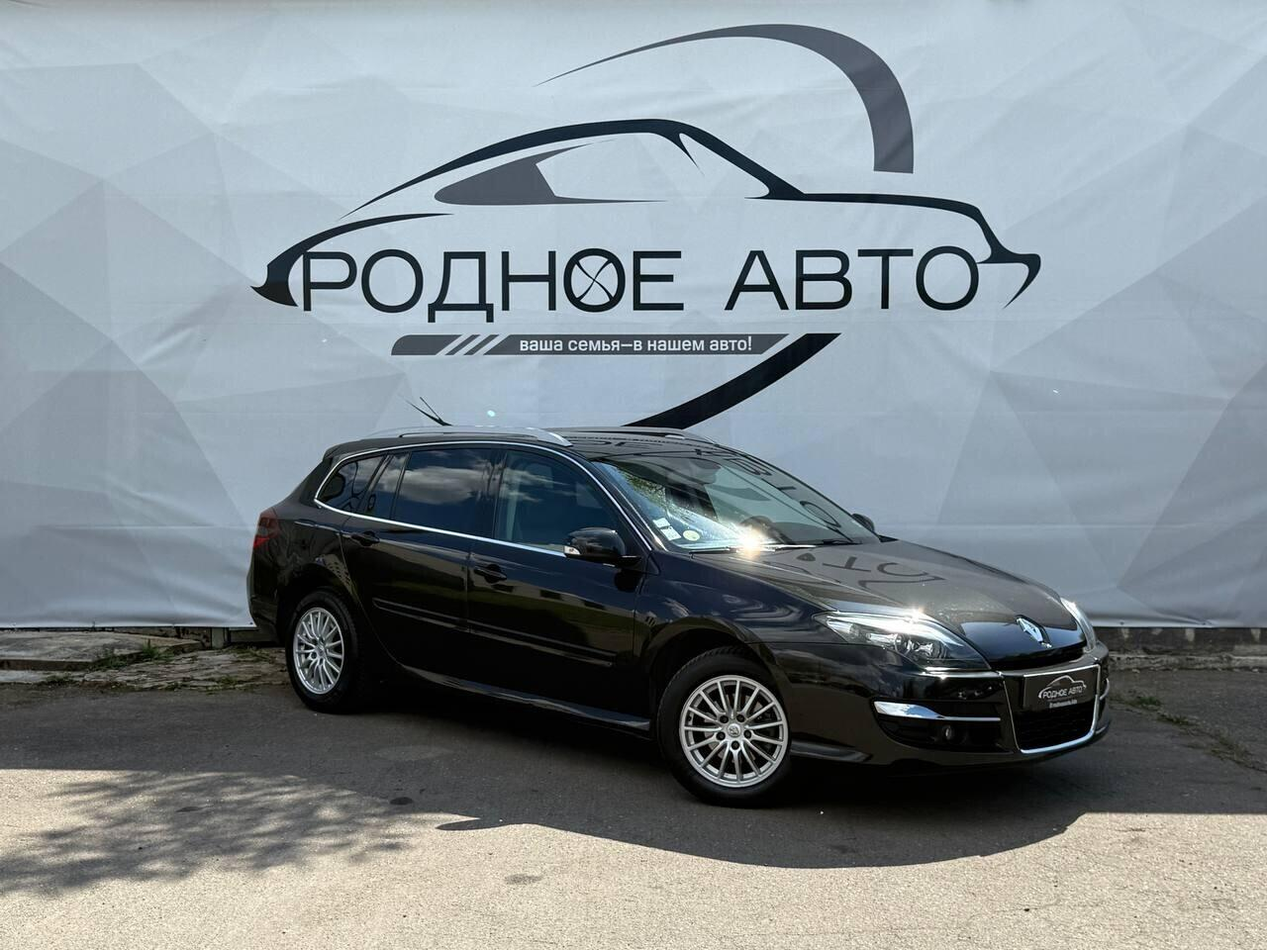Laguna_2010-2015: (240, 422, 1114, 804)
